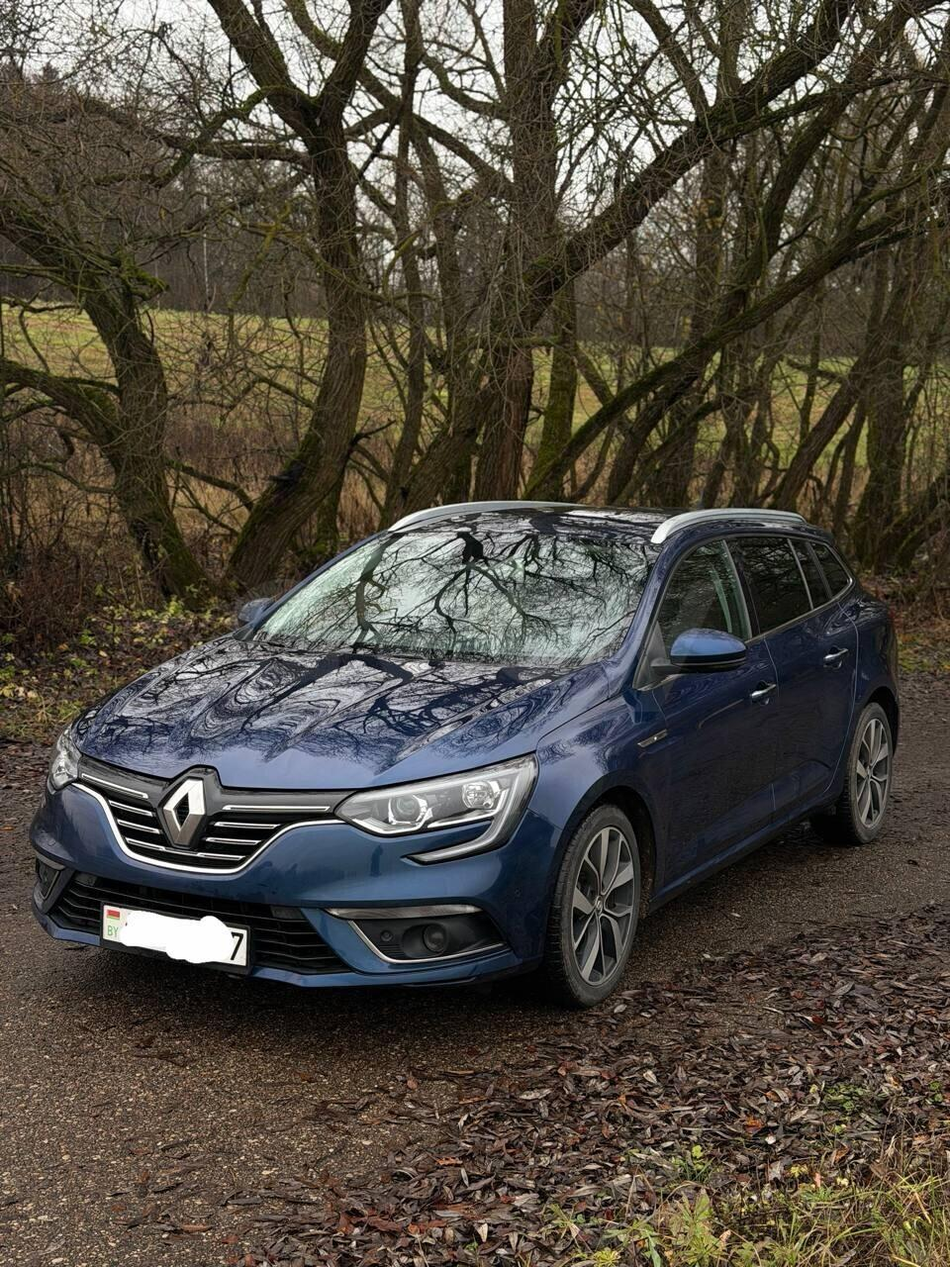Megane_2016-2020: (33, 502, 898, 1004)
